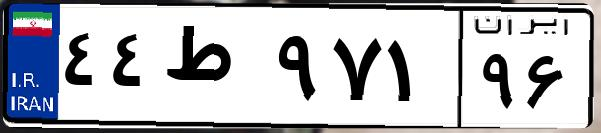1: (385, 28, 445, 110)
4: (57, 26, 110, 100), (110, 28, 158, 98)
6: (525, 38, 570, 115)
7: (330, 28, 385, 110)
9: (270, 28, 330, 110), (475, 38, 525, 113)
ط: (158, 20, 270, 120)
